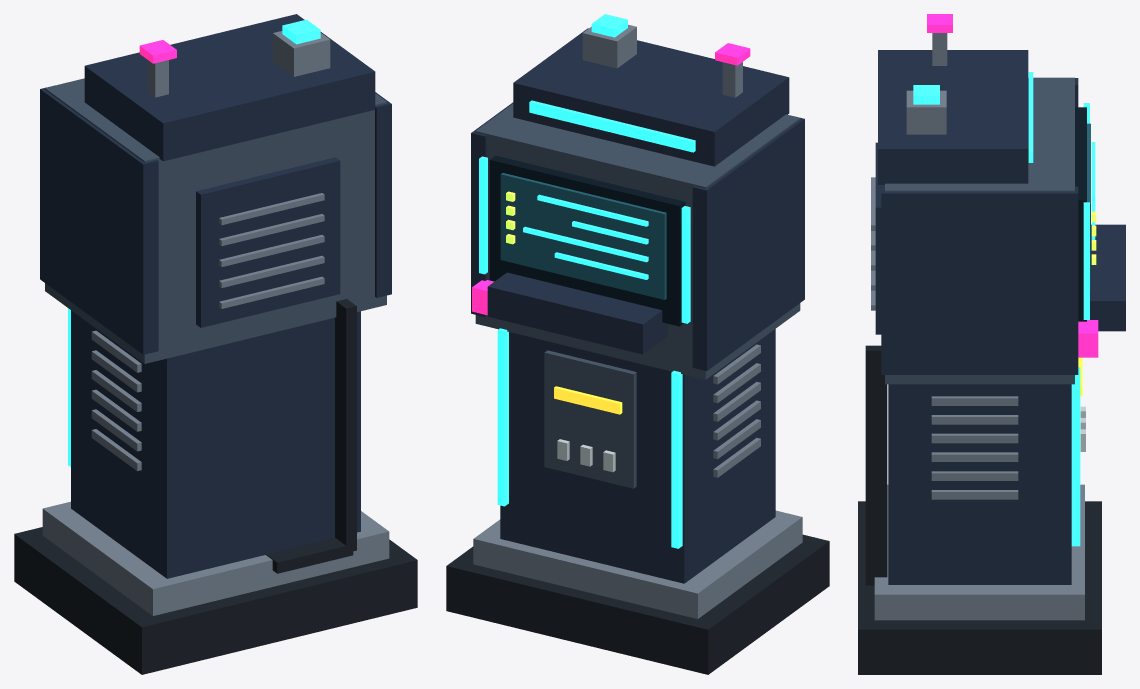
Rendered from relay.glb.
3 views of the same model, side by side, from view 1: azimuth 30°, elevation 25°; view 2: azimuth 150°, elevation 25°; view 3: azimuth 270°, elevation 25° (orthographic). The views are drawn at different scales.
Visible parts, largest first — view 1: KASUMI DATA RELAY; view 2: KASUMI DATA RELAY; view 3: KASUMI DATA RELAY.
Part boxes in pixels (<box>): KASUMI DATA RELAY: <box>14,14,417,674</box>; KASUMI DATA RELAY: <box>446,14,829,674</box>; KASUMI DATA RELAY: <box>858,14,1125,674</box>.
Bounding box in the file's own units: 0.91 × 1.83 × 0.802.
